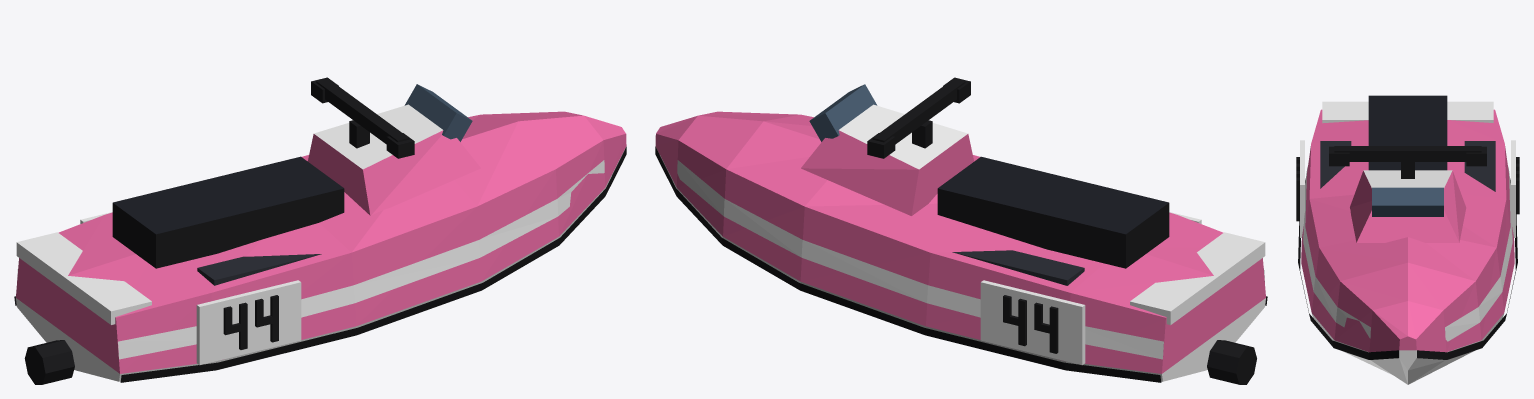
File: jetski_rosa_body.obj
3 views of the same model, side by side, from view 1: azimuth 30°, elevation 25°; view 2: azimuth 150°, elevation 25°; view 3: azimuth 270°, elevation 25° (orthographic). The views are drawn at different scales.
Visible parts, largest first — view 1: jetski_rosa_body; view 2: jetski_rosa_body; view 3: jetski_rosa_body.
Part boxes in pixels (box(x1,y1,x2,y2)): jetski_rosa_body: box(14, 77, 626, 384); jetski_rosa_body: box(655, 77, 1267, 384); jetski_rosa_body: box(1296, 95, 1519, 384).
Bounding box in the file's own units: 3.58 × 1.85 × 1.3.
